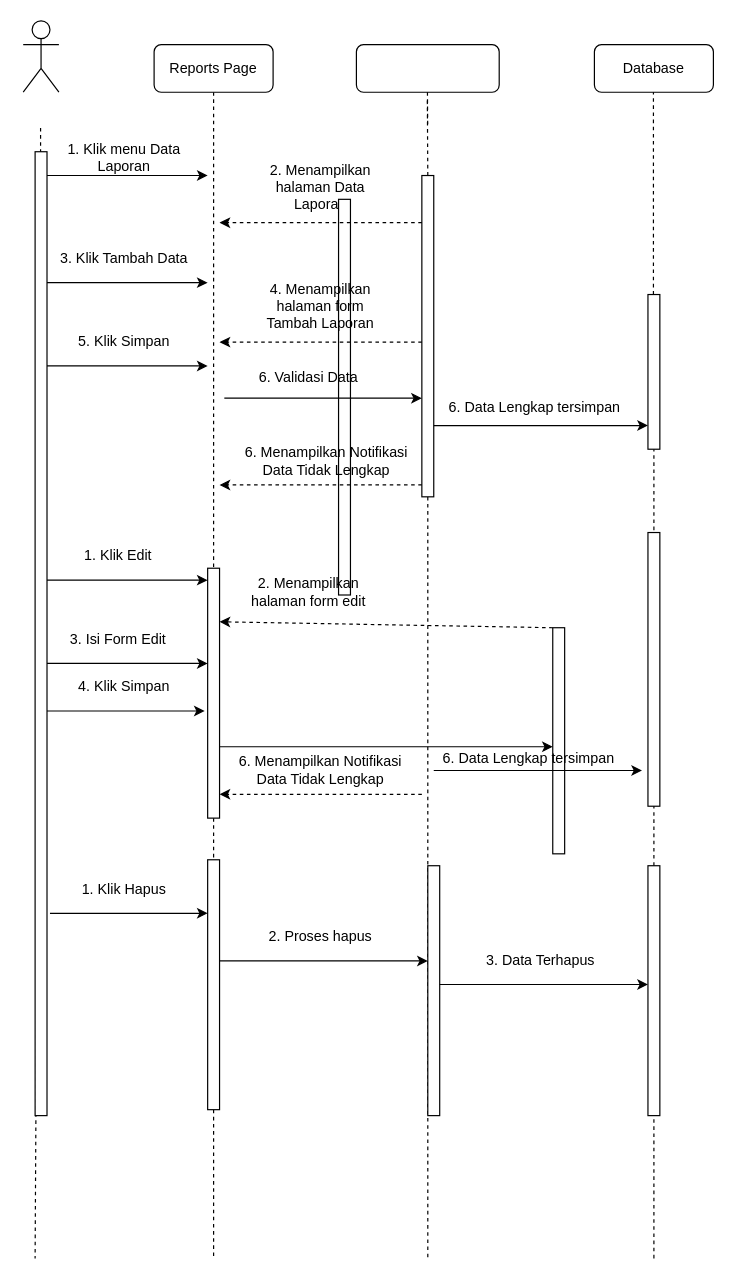
Some shapes in this 734 by 1280 pixel diagram are drawn without their labels. The shapes that lost their labels are listed below. From the top down, each one's centre as x and y in pixels, then its label:
At point (40, 56): "Admin".
At point (427, 67): "Sistem".
